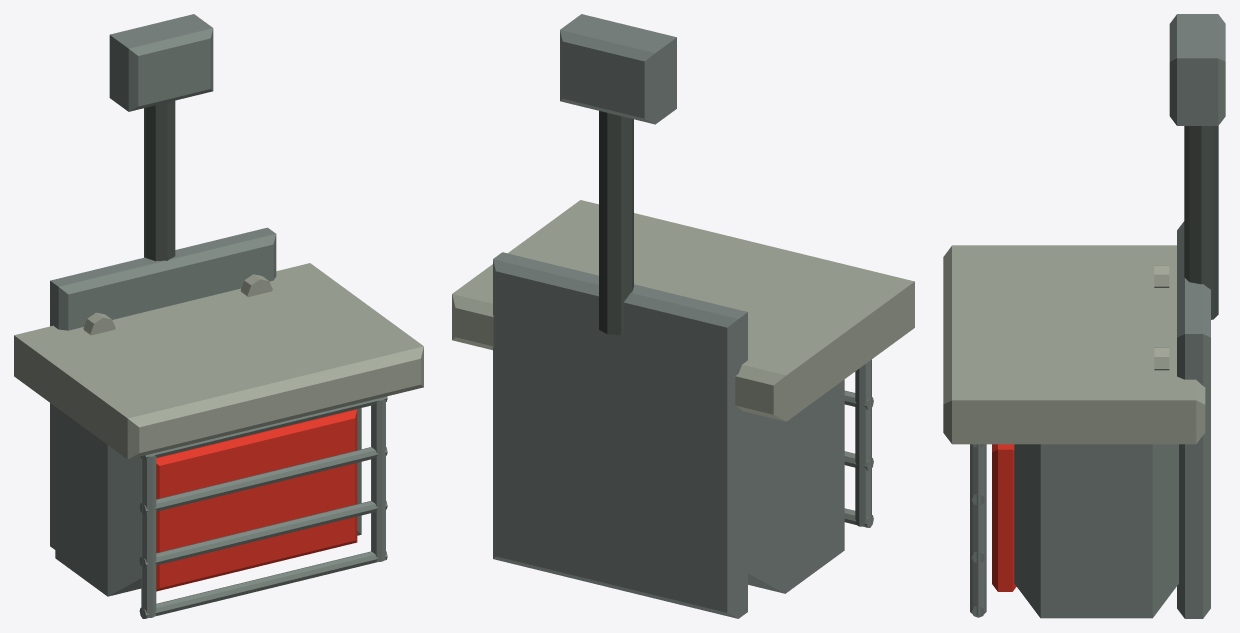
The model's file is EmergencyLamp.fbx.
3 views of the same model, side by side, from view 1: azimuth 30°, elevation 25°; view 2: azimuth 150°, elevation 25°; view 3: azimuth 270°, elevation 25° (orthographic). The views are drawn at different scales.
Visible parts, largest first — view 1: RainHood__WornSteel, RedLens__SignalRed, LensGuard__Steel, Housing__Steel, WallMount__Steel, CableJunction__Steel, SupplyCable__Rubber, MountBolts__WornSteel; view 2: WallMount__Steel, RainHood__WornSteel, Housing__Steel, CableJunction__Steel, SupplyCable__Rubber, LensGuard__Steel; view 3: RainHood__WornSteel, Housing__Steel, WallMount__Steel, CableJunction__Steel, SupplyCable__Rubber, RedLens__SignalRed, LensGuard__Steel, MountBolts__WornSteel.
Boxes of the visible parts, box(x1,y1,x2,y2) form: RainHood__WornSteel: box(14, 263, 423, 459); RedLens__SignalRed: box(156, 409, 357, 591); LensGuard__Steel: box(139, 396, 387, 618); Housing__Steel: box(55, 407, 361, 596); WallMount__Steel: box(50, 227, 276, 549); CableJunction__Steel: box(109, 14, 213, 111); SupplyCable__Rubber: box(144, 100, 175, 261); MountBolts__WornSteel: box(83, 274, 272, 335); WallMount__Steel: box(493, 252, 747, 618); RainHood__WornSteel: box(452, 200, 914, 421); Housing__Steel: box(748, 379, 844, 593); CableJunction__Steel: box(560, 14, 676, 124); SupplyCable__Rubber: box(599, 111, 633, 334); LensGuard__Steel: box(844, 359, 873, 527); RainHood__WornSteel: box(943, 245, 1205, 444); Housing__Steel: box(1014, 444, 1178, 618); WallMount__Steel: box(1177, 221, 1210, 618); CableJunction__Steel: box(1169, 14, 1225, 125); SupplyCable__Rubber: box(1184, 126, 1218, 319); RedLens__SignalRed: box(992, 444, 1016, 591); LensGuard__Steel: box(970, 444, 986, 617); MountBolts__WornSteel: box(1154, 265, 1169, 370).
Bounding box in the file's own units: 0.49 × 0.775 × 0.3775.
